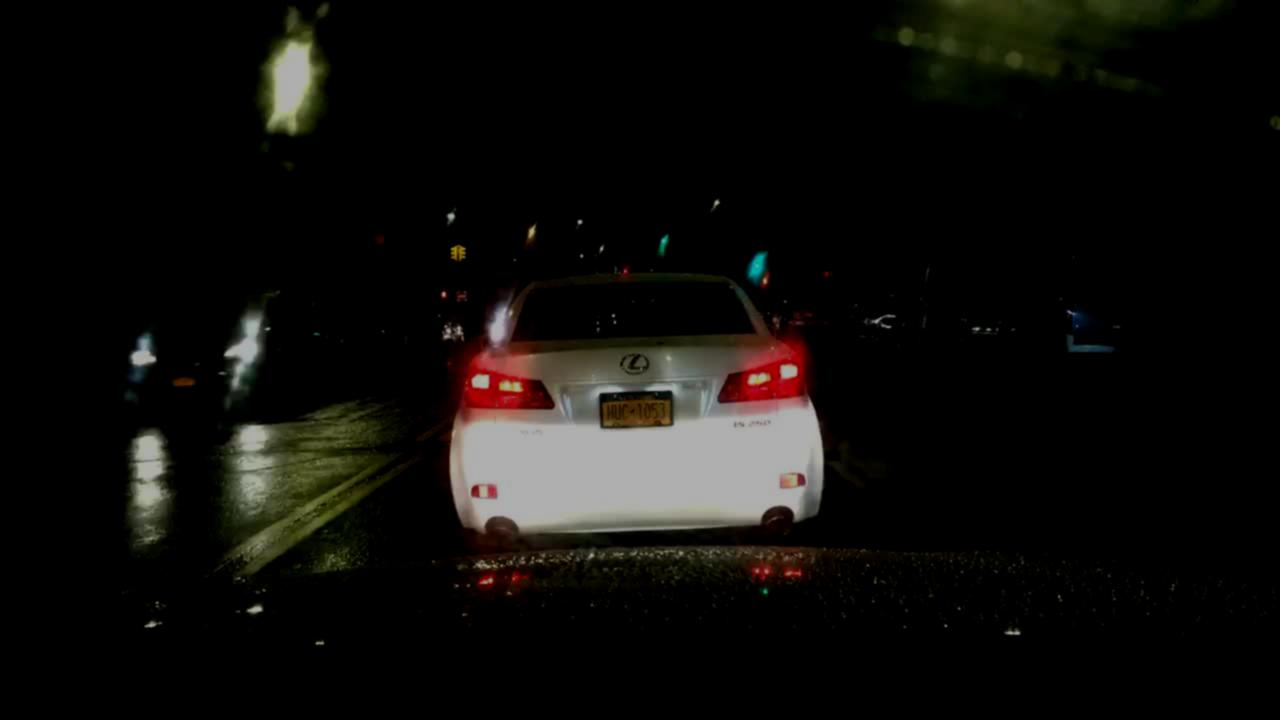lexus: (615, 347, 658, 380)
